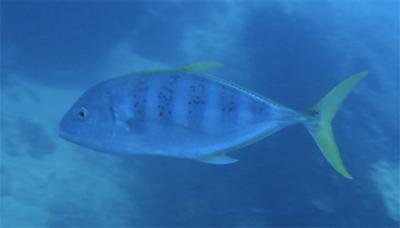Carangidae -Jacks-: (54, 50, 373, 195)
